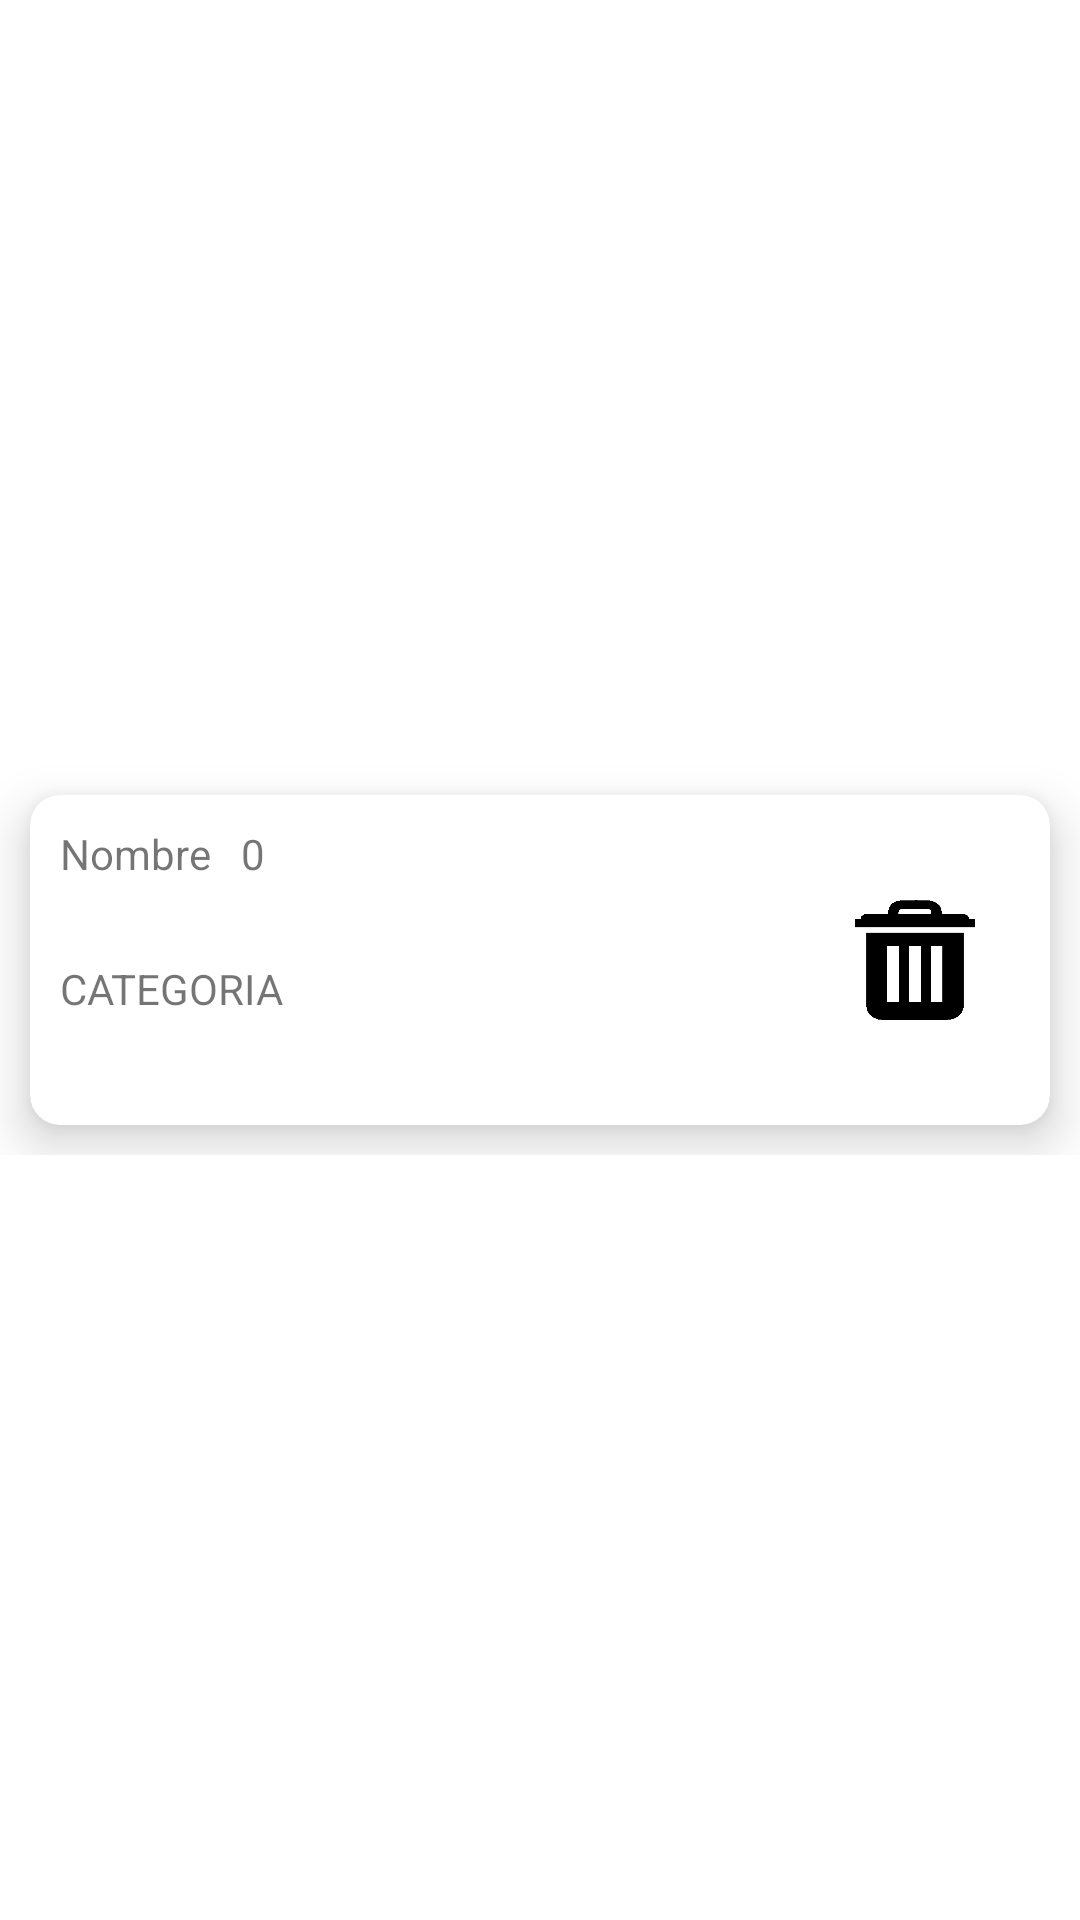

Where to tap for icons on this 1080 x 1920 app screen, as (x=x, y=y):
Borrar: (x=915, y=960)
